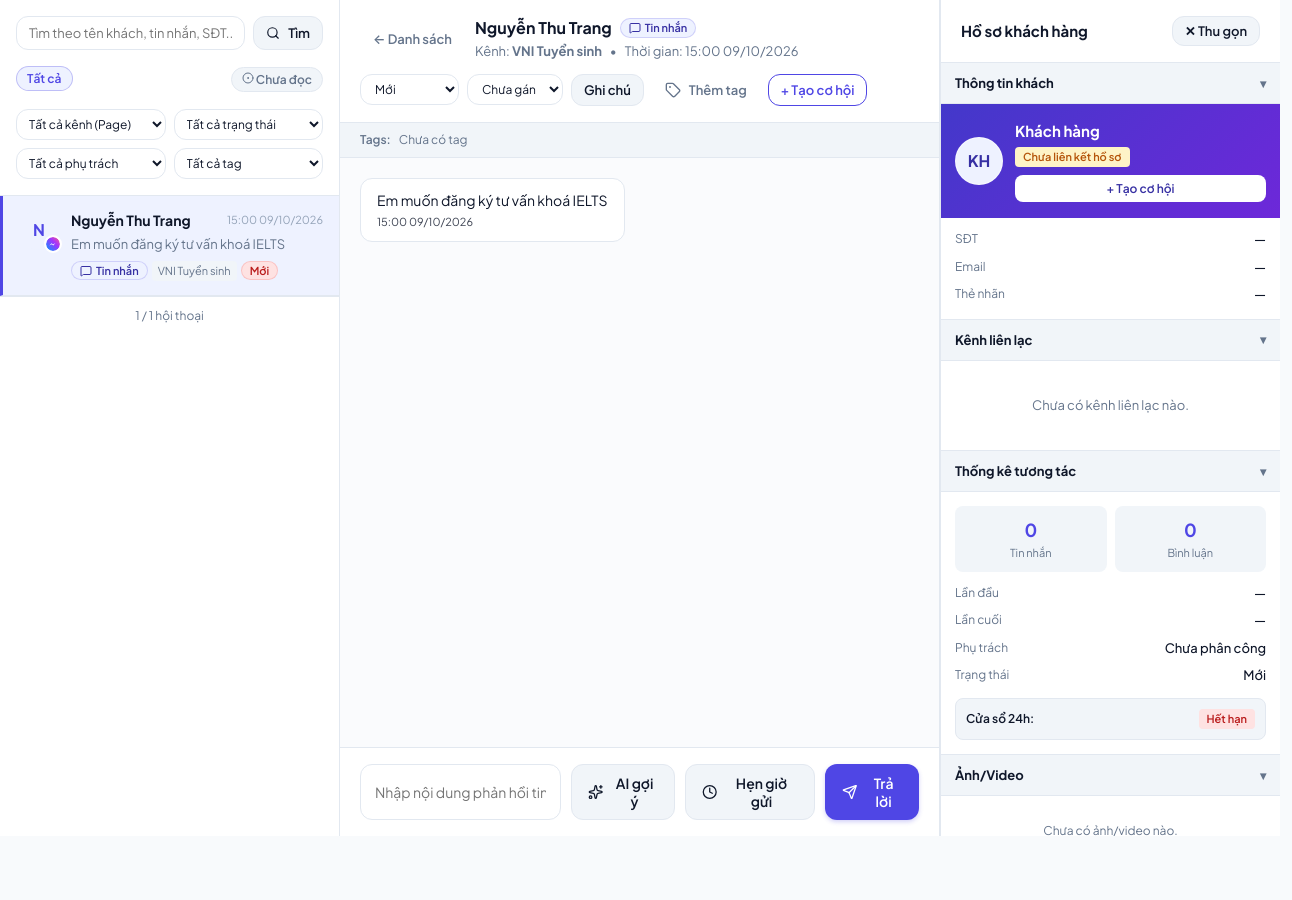
Scenario: AC fd9216b3 (e) & /inbox?kind=&id= — Tạo/Xem Cơ hội từ Inbox & Điều hướng URL › Nút "Tạo cơ hội" và "Xem cơ hội" trong Inbox › Admin/Reviewer thấy "Tạo cơ hội"; bấm → gọi from-conversation với đúng kind/id; sau đó hiện "Xem cơ hội"
Expected: the element with test id "conv-item-conv-1" is shown, [0,196,339,296]
Note: Bấm "Tạo cơ hội"
Click the button with test id "btn-create-opportunity" at x=818, y=90, box [768,74,868,106]
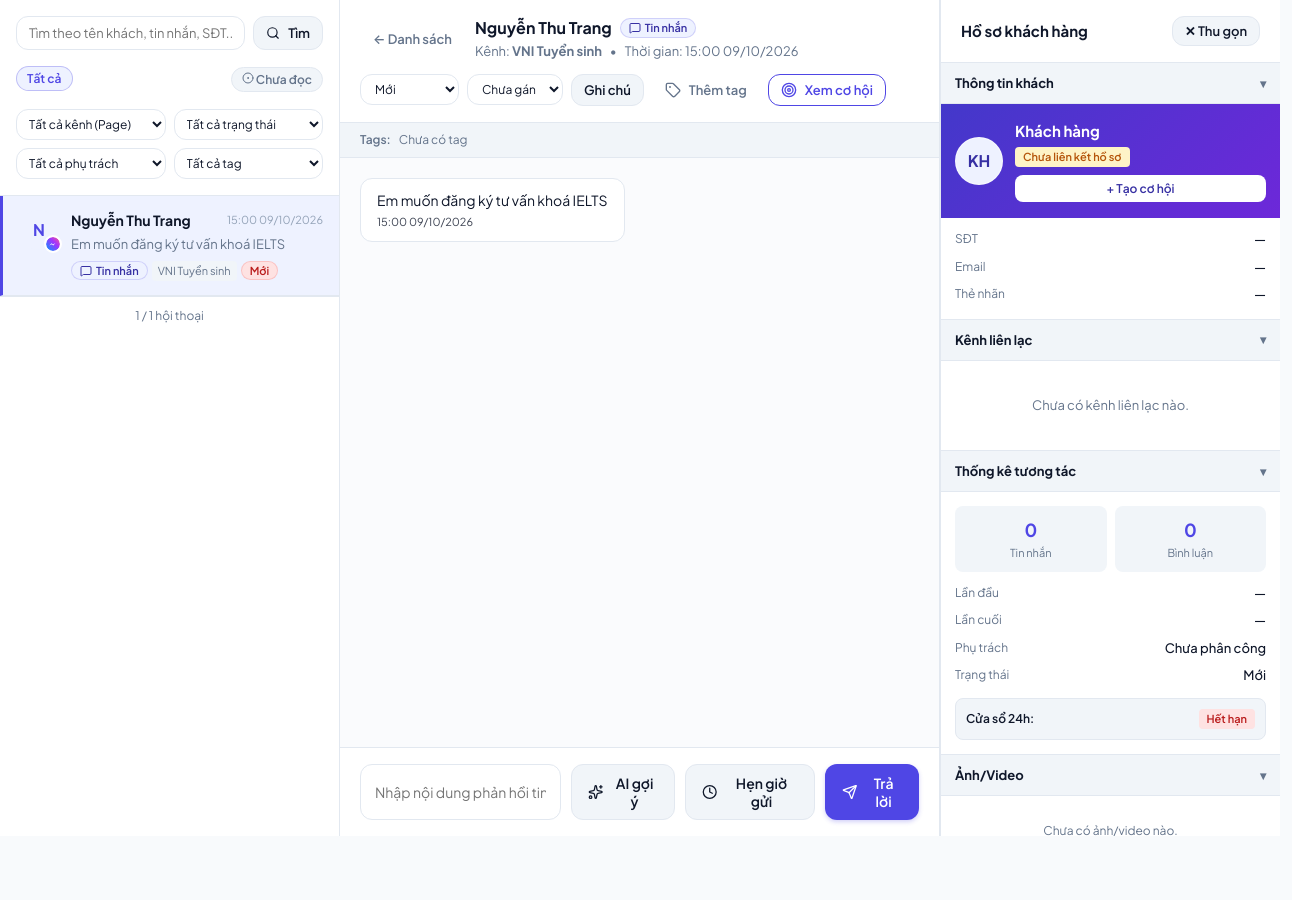
Expected: the button with test id "btn-view-opportunity" reads "Xem cơ hội", [768,74,886,106]
